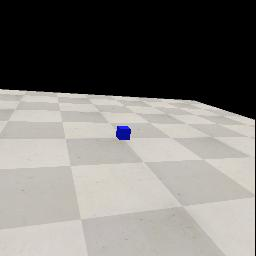box: (116, 126, 131, 140)
